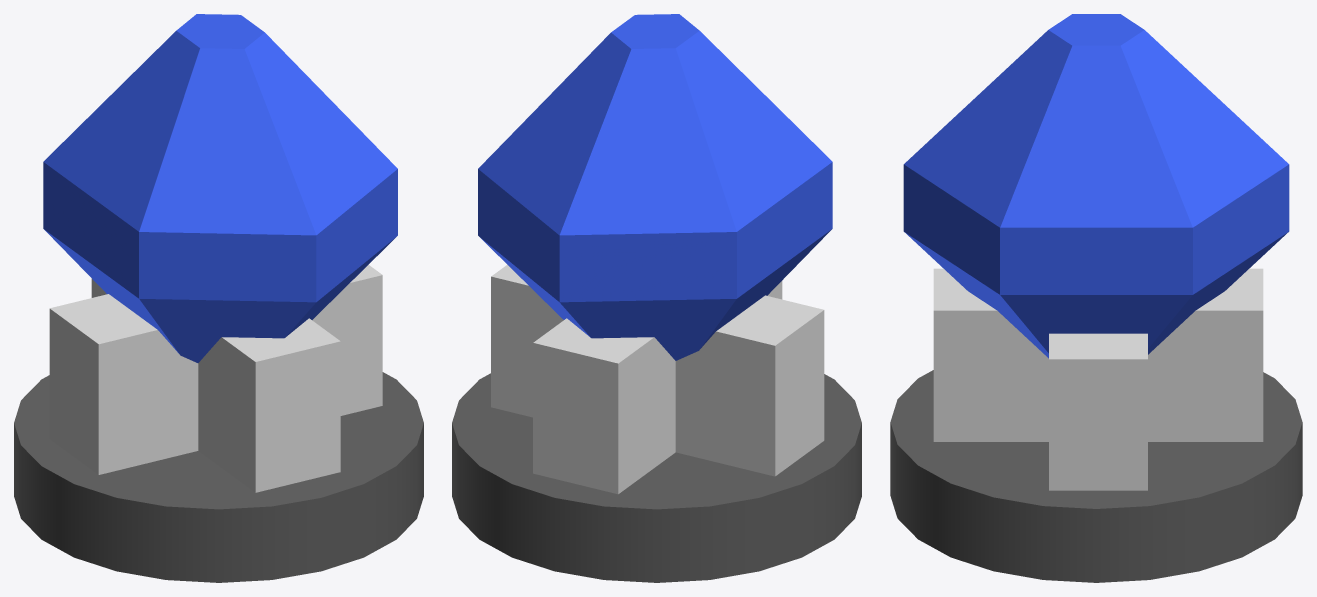
File: gems_sapphire_5.obj
3 renders of one model, left to right at view 1: azimuth 30°, elevation 25°; view 2: azimuth 150°, elevation 25°; view 3: azimuth 270°, elevation 25°, orthographic.
Parts seen in each view (by area): view 1: mergedBlocks; view 2: mergedBlocks; view 3: mergedBlocks.
Part boxes in pixels (left/top/right/bottom): mergedBlocks: left=14, top=14, right=423, bottom=582; mergedBlocks: left=452, top=14, right=861, bottom=582; mergedBlocks: left=890, top=14, right=1302, bottom=582.
Size of the model in its own units: 1 by 1.25 by 1.
